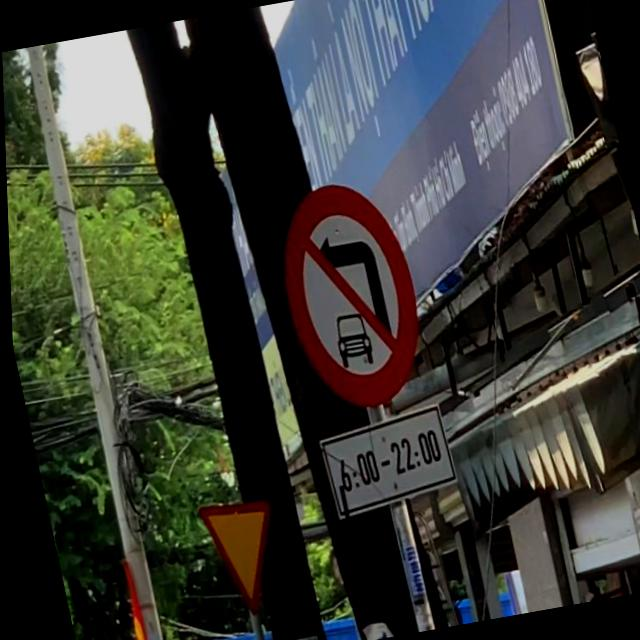Giao nhau voi duong uu tien: (190, 494, 291, 624)
